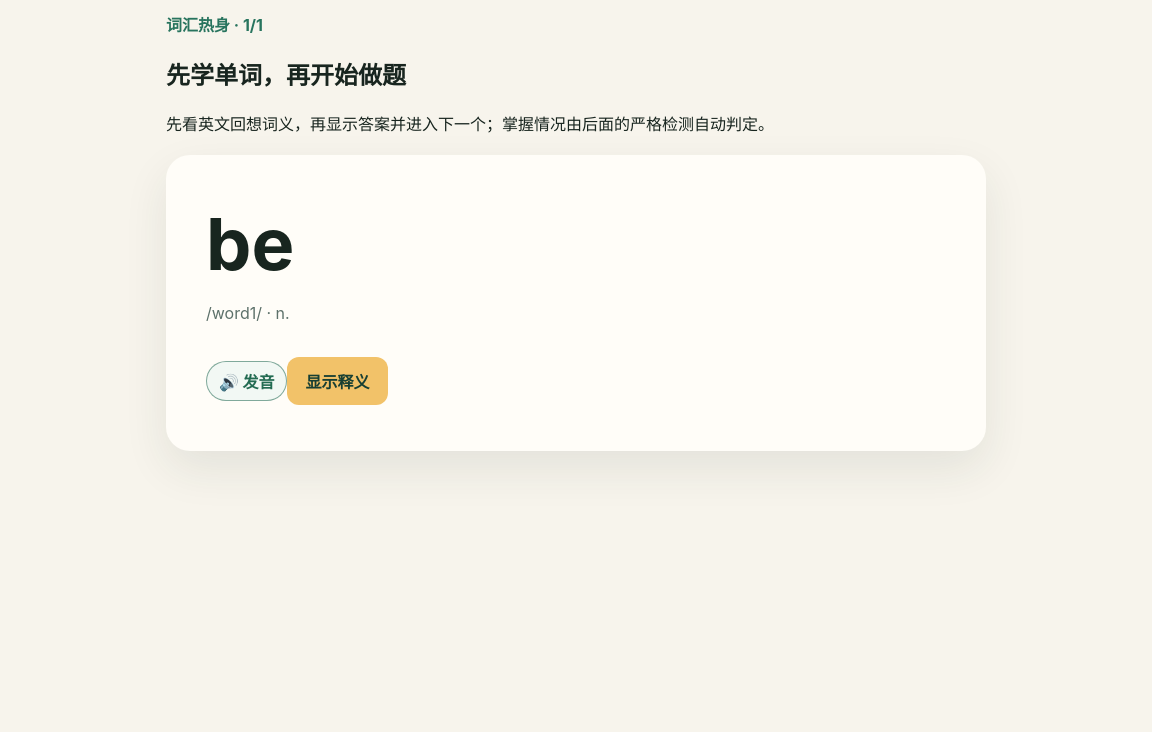
Test: VocabularyWarmup › shows common irregular forms with the revealed answer
The width and height of the screenshot is (1152, 732).
Click the button "显示释义": (338, 381) x1=288 y1=357 x2=388 y2=405
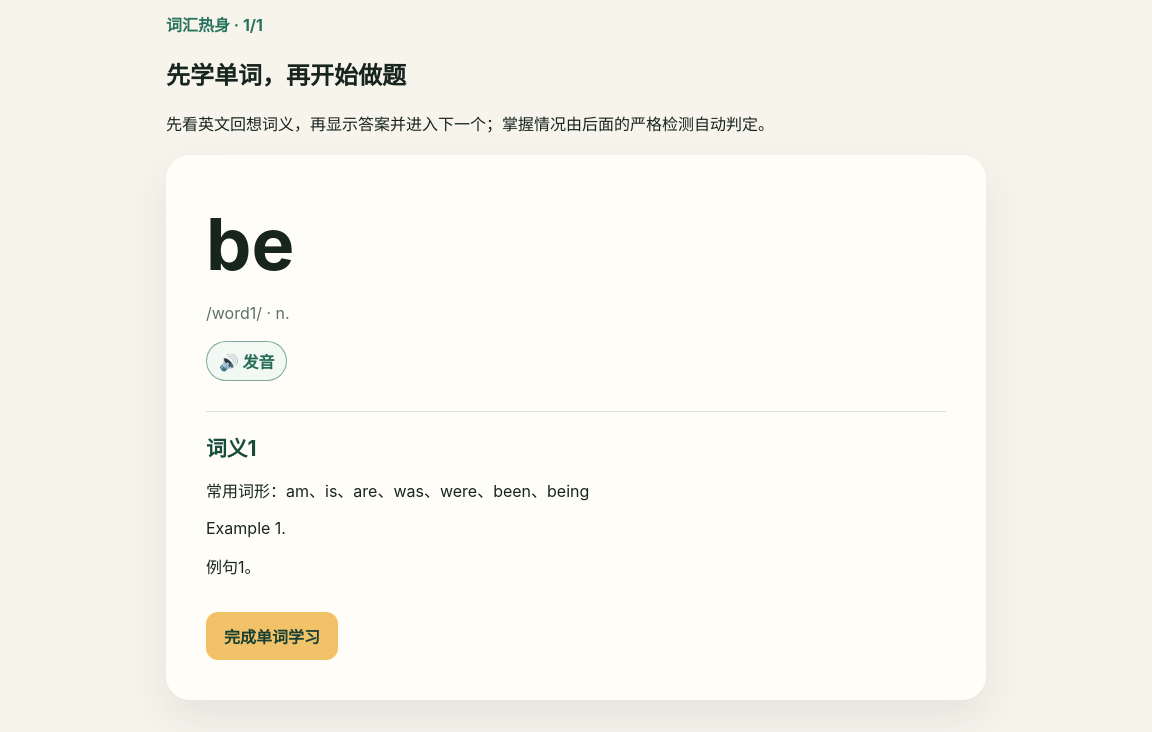
expect the text "常用词形：am、is、are、was、were、been、being" is shown: met, box x1=206 y1=481 x2=589 y2=501
